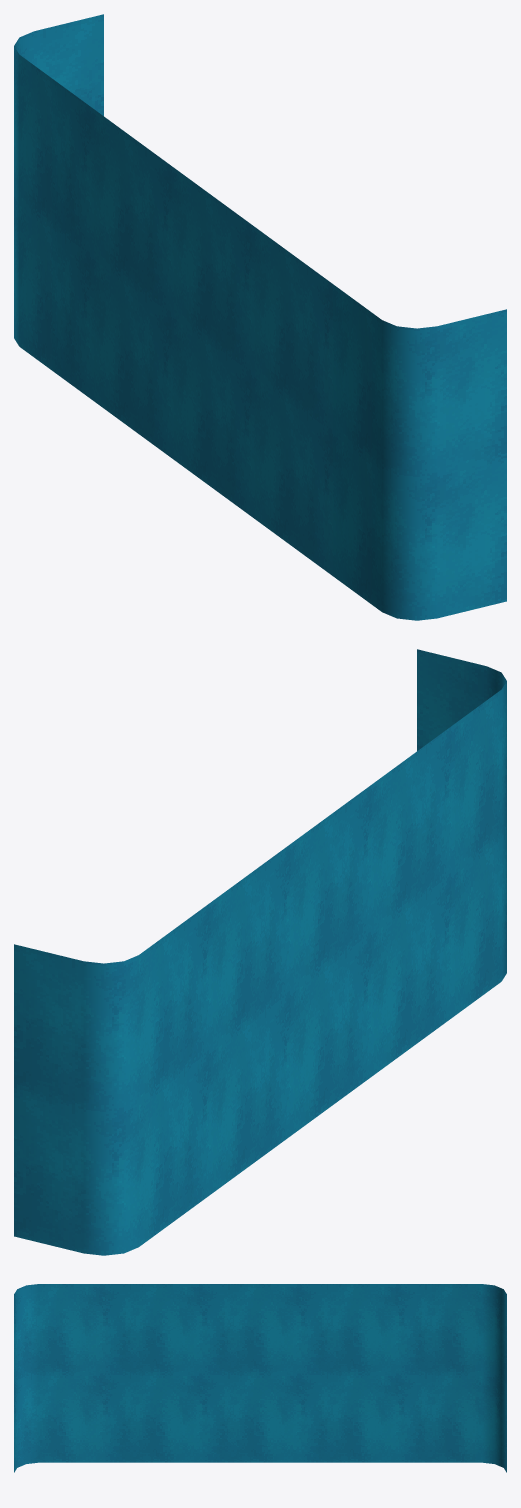
The model's file is Cliff_Cave_Entrance_Waterfall_Narrow_Base.glb.
The picture shows the model from 3 angles, top to bottom: view 1: azimuth 30°, elevation 25°; view 2: azimuth 150°, elevation 25°; view 3: azimuth 270°, elevation 25°; orthographic projection. The views are drawn at different scales.
Visible parts, largest first — view 1: Water_Waterfall_Base_Right_1x1, Water_Waterfall_Base_Left_1x1, Water_Waterfall_Base_Center_1x1; view 2: Water_Waterfall_Base_Left_1x1, Water_Waterfall_Base_Right_1x1, Water_Waterfall_Base_Center_1x1; view 3: Water_Waterfall_Base_Right_1x1, Water_Waterfall_Base_Left_1x1, Water_Waterfall_Base_Center_1x1.
Boxes of the visible parts, x1,y1,x2,y2 form: Water_Waterfall_Base_Right_1x1: (241, 217, 506, 620); Water_Waterfall_Base_Left_1x1: (14, 14, 160, 449); Water_Waterfall_Base_Center_1x1: (160, 158, 240, 508); Water_Waterfall_Base_Left_1x1: (14, 852, 279, 1255); Water_Waterfall_Base_Right_1x1: (360, 649, 506, 1084); Water_Waterfall_Base_Center_1x1: (280, 793, 360, 1143); Water_Waterfall_Base_Right_1x1: (14, 1284, 211, 1472); Water_Waterfall_Base_Left_1x1: (309, 1284, 506, 1472); Water_Waterfall_Base_Center_1x1: (211, 1284, 309, 1462).
Bounding box in the file's own units: 75 × 200 × 500.
Materials: 3 (3 with a texture image).
